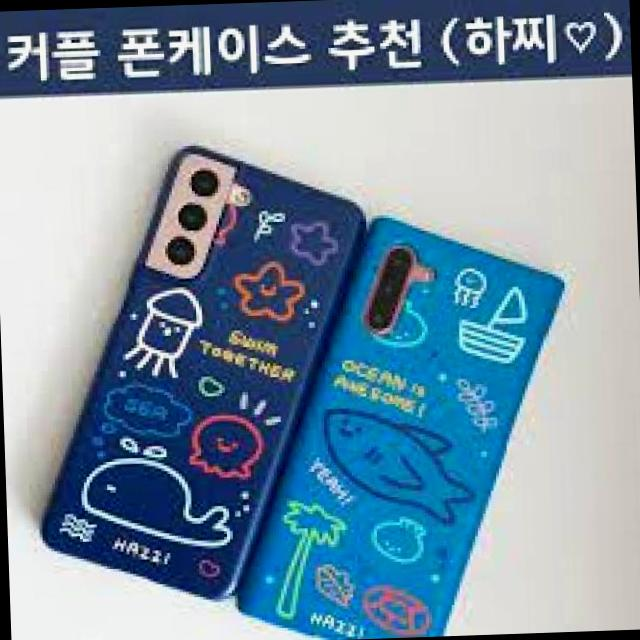lens_back: (186, 163, 224, 199), (162, 233, 198, 266), (177, 200, 208, 232), (383, 247, 412, 276), (376, 276, 404, 301), (367, 304, 392, 330)
phone: (222, 205, 580, 640), (44, 153, 372, 606)
